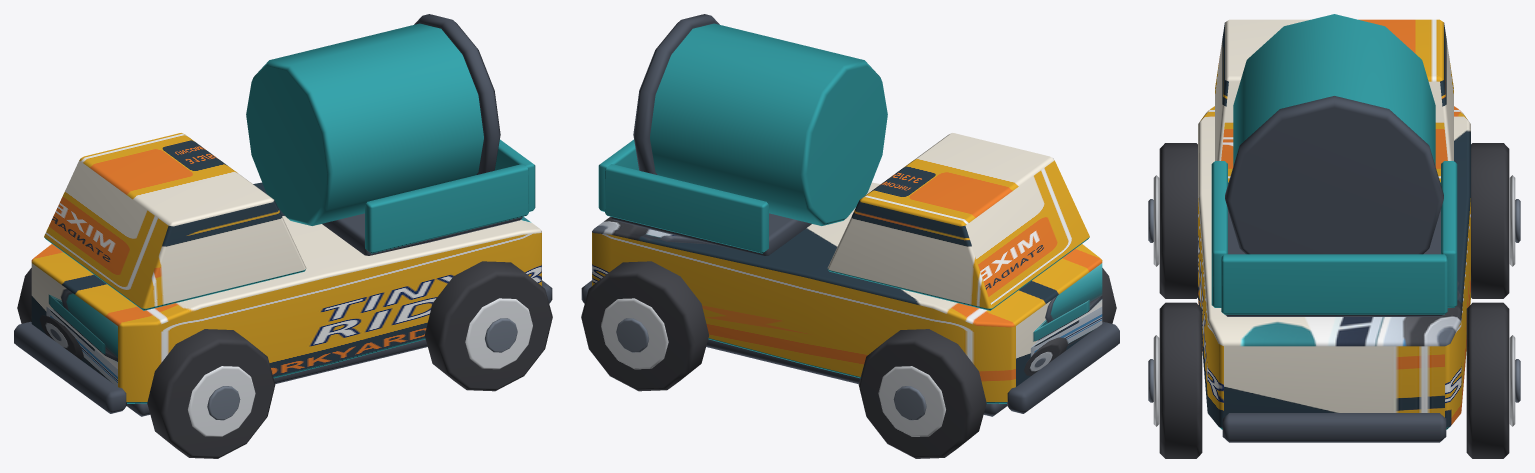
The picture shows the model from 3 angles, left to right: view 1: azimuth 30°, elevation 25°; view 2: azimuth 150°, elevation 25°; view 3: azimuth 270°, elevation 25°; orthographic projection. The views are drawn at different scales.
Parts seen in each view (by area): view 1: WY-02_connected_shell, large mixing drum, WY-02_cabin, Tire, Tire.002, cargo side, front bumper, rear drum collar, Rim.002, Rim, cargo floor, underbody (+4 smaller); view 2: WY-02_connected_shell, large mixing drum, WY-02_cabin, Tire.001, Tire.003, cargo side.001, front bumper, rear drum collar, Rim.003, Rim.001, cargo floor, underbody (+4 smaller); view 3: WY-02_connected_shell, rear drum collar, large mixing drum, cargo tail, WY-02_cabin, Tire.002, Tire.003, rear bumper, Tire, Tire.001, cargo side, cargo side.001 (+5 smaller).
Part boxes in pixels (bbox=[...]): WY-02_connected_shell: bbox=[31, 182, 541, 403]; large mixing drum: bbox=[246, 23, 483, 225]; WY-02_cabin: bbox=[44, 133, 306, 310]; Tire: bbox=[147, 329, 275, 458]; Tire.002: bbox=[425, 261, 552, 391]; cargo side: bbox=[365, 164, 528, 253]; front bumper: bbox=[14, 321, 126, 413]; rear drum collar: bbox=[414, 14, 500, 174]; Rim.002: bbox=[465, 298, 532, 369]; Rim: bbox=[188, 366, 255, 436]; cargo floor: bbox=[322, 213, 522, 255]; underbody: bbox=[127, 339, 427, 416]; WY-02_connected_shell: bbox=[592, 182, 1102, 403]; large mixing drum: bbox=[650, 23, 887, 225]; WY-02_cabin: bbox=[827, 133, 1089, 310]; Tire.001: bbox=[858, 329, 986, 458]; Tire.003: bbox=[581, 261, 708, 391]; cargo side.001: bbox=[605, 164, 768, 253]; front bumper: bbox=[1007, 321, 1119, 413]; rear drum collar: bbox=[633, 14, 719, 174]; Rim.003: bbox=[601, 298, 668, 369]; Rim.001: bbox=[878, 366, 945, 436]; cargo floor: bbox=[611, 213, 811, 255]; underbody: bbox=[706, 339, 1006, 416]; WY-02_connected_shell: bbox=[1198, 106, 1470, 429]; rear drum collar: bbox=[1225, 96, 1443, 254]; large mixing drum: bbox=[1233, 14, 1435, 165]; cargo tail: bbox=[1221, 254, 1447, 314]; WY-02_cabin: bbox=[1215, 19, 1453, 183]; Tire.002: bbox=[1159, 302, 1202, 458]; Tire.003: bbox=[1466, 302, 1509, 458]; rear bumper: bbox=[1222, 413, 1446, 442]; Tire: bbox=[1159, 143, 1197, 298]; Tire.001: bbox=[1471, 143, 1509, 298]; cargo side: bbox=[1211, 161, 1227, 307]; cargo side.001: bbox=[1441, 161, 1457, 307].
Size of the model in its own units: 374 by 249 by 228.
